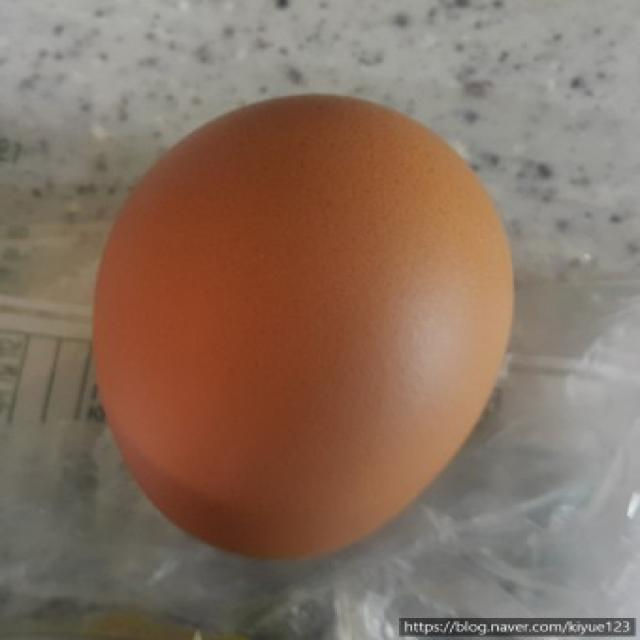eggs: (92, 89, 523, 564)
